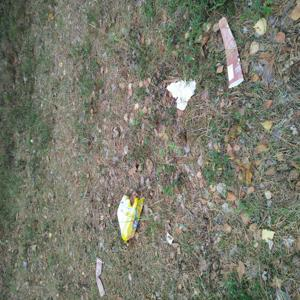cardboard: (211, 10, 258, 99), (110, 191, 150, 242), (164, 78, 205, 112)
